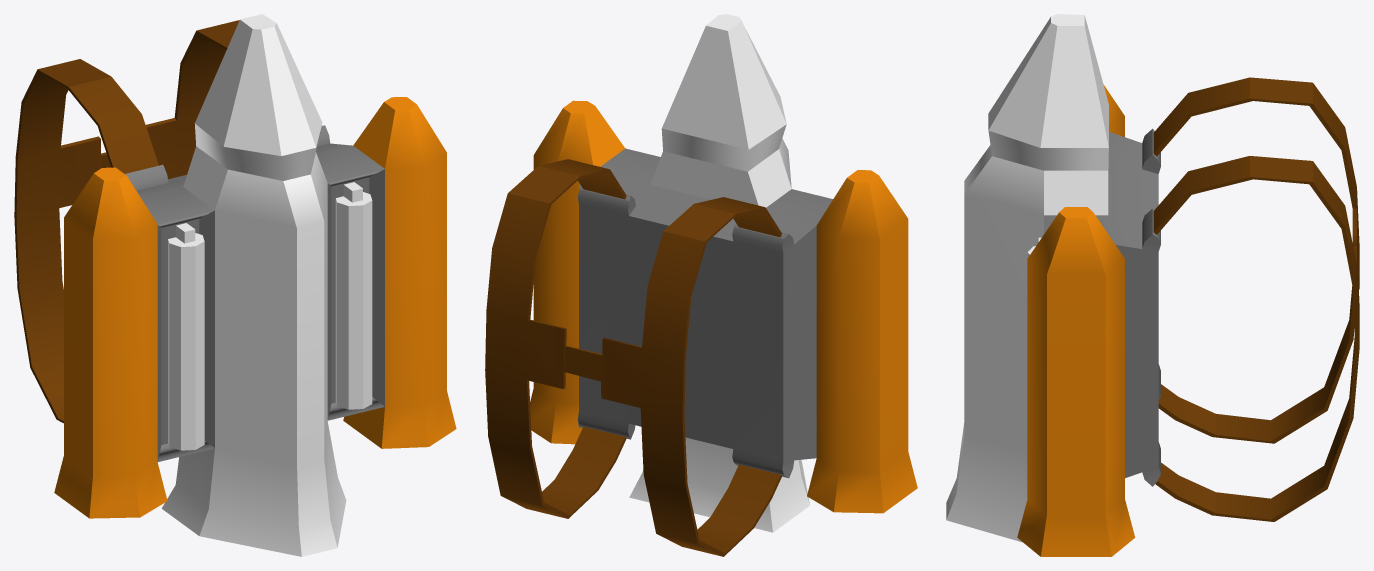
Rendered from Jetpack with Straps 1.fbx.
3 renders of one model, left to right at view 1: azimuth 30°, elevation 25°; view 2: azimuth 150°, elevation 25°; view 3: azimuth 270°, elevation 25°, orthographic. The views are drawn at different scales.
Visible parts, largest first — view 1: pCube7; view 2: pCube7; view 3: pCube7.
Boxes of the visible parts, <box> form: pCube7: <box>14,14,456,556</box>; pCube7: <box>485,14,917,556</box>; pCube7: <box>946,14,1359,556</box>.
Bounding box in the file's own units: 6.66 × 8.43 × 6.42.
